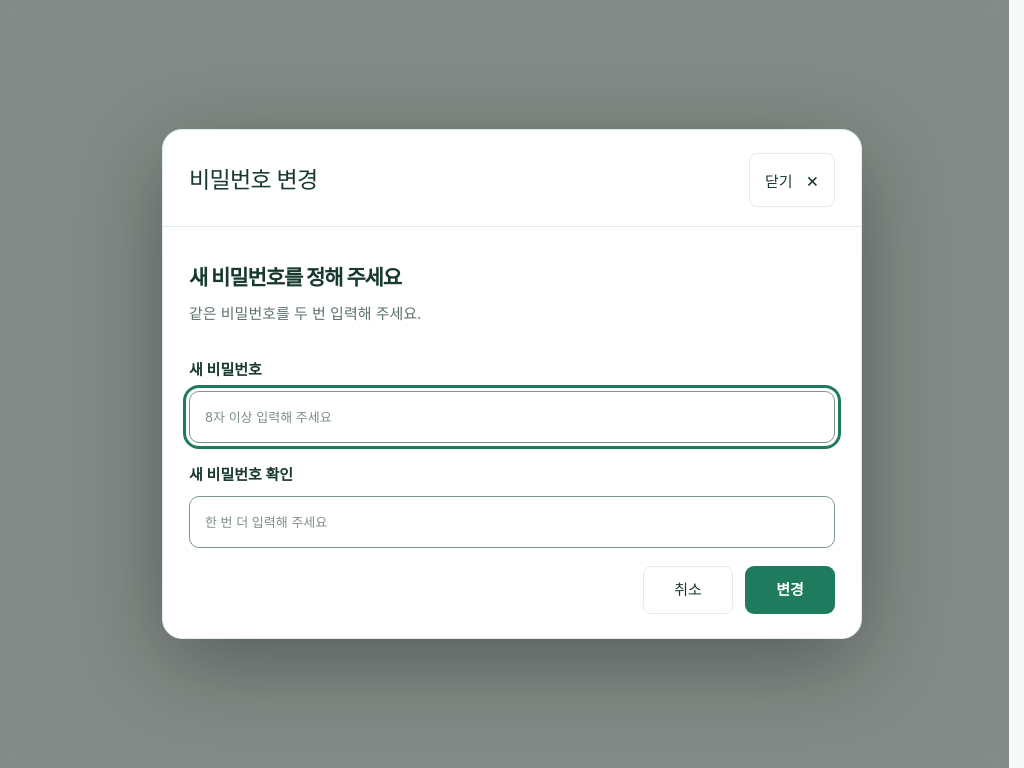
Test: failed_request_preserves_inputs_and_allows_retry_or_close
In the password field labelled "새 비밀번호": [512, 417] box [189,391,835,443], type "new-password-123"
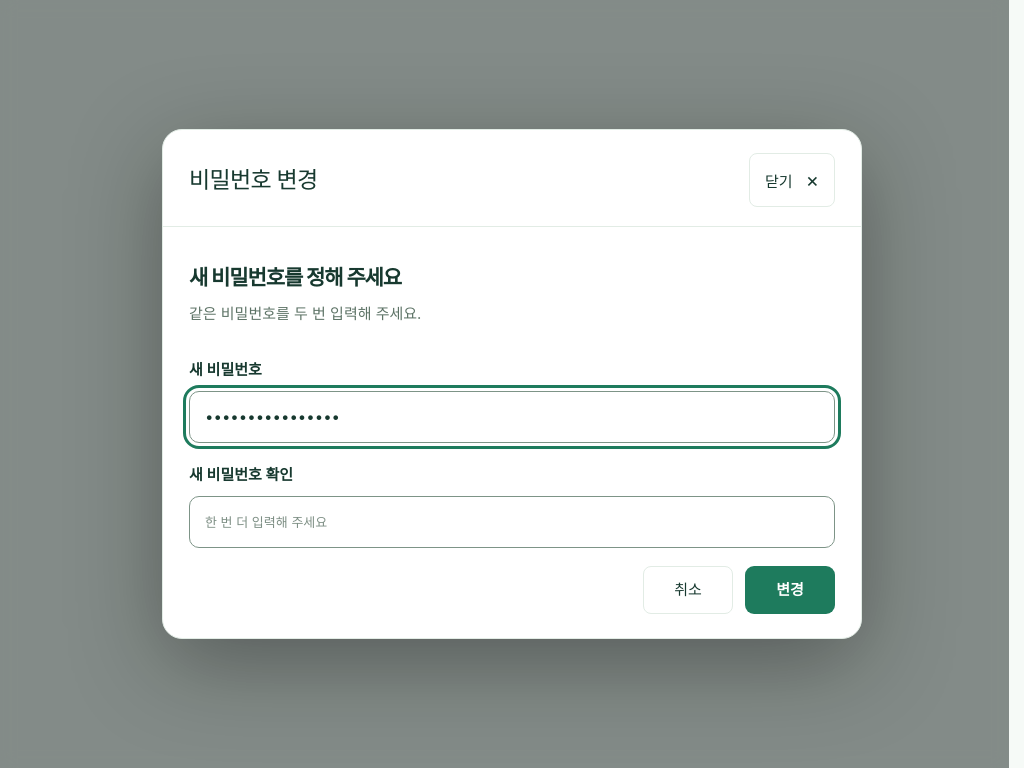
In the password field labelled "새 비밀번호 확인": [512, 522] box [189,496,835,548], type "new-password-123"
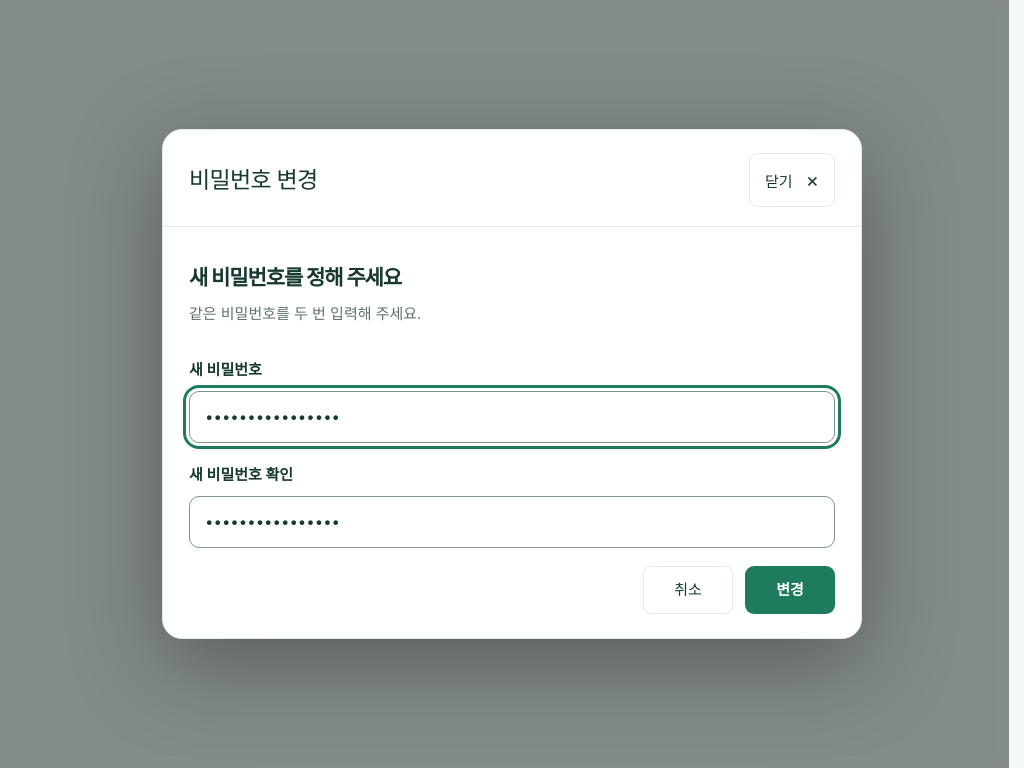
Submit the form named "비밀번호 변경", box [189,358,835,548]
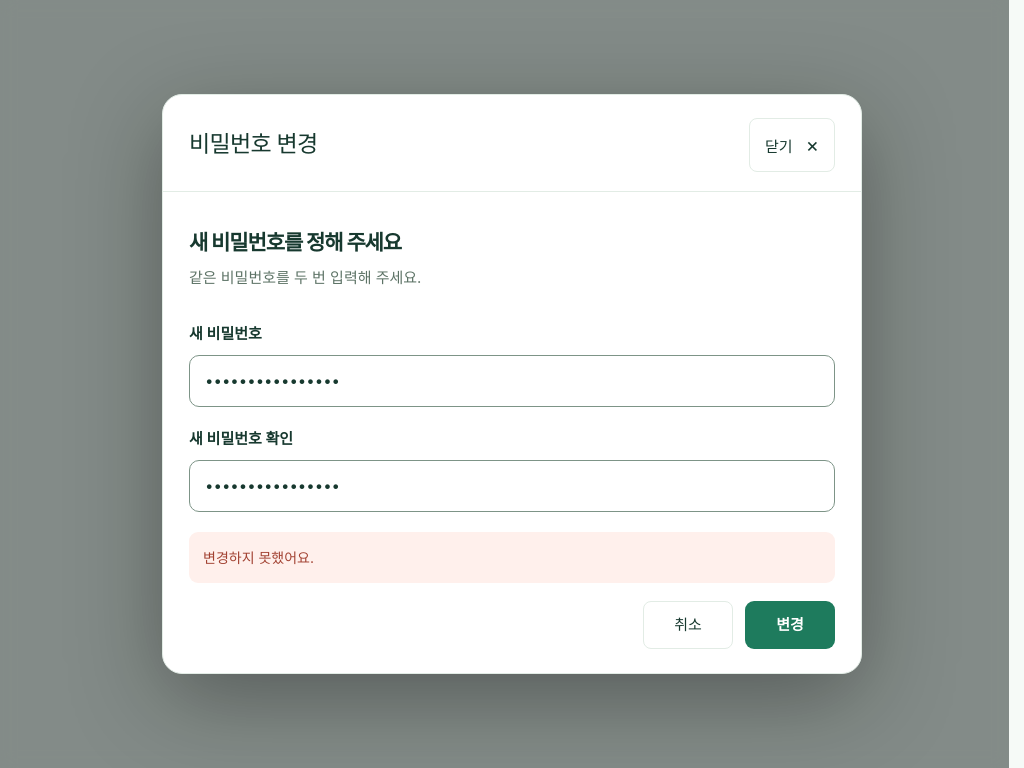
Expected: the button "취소" is enabled, [643,601,733,649]
Expected: the message reads "변경하지 못했어요.", [203,549,314,566]
